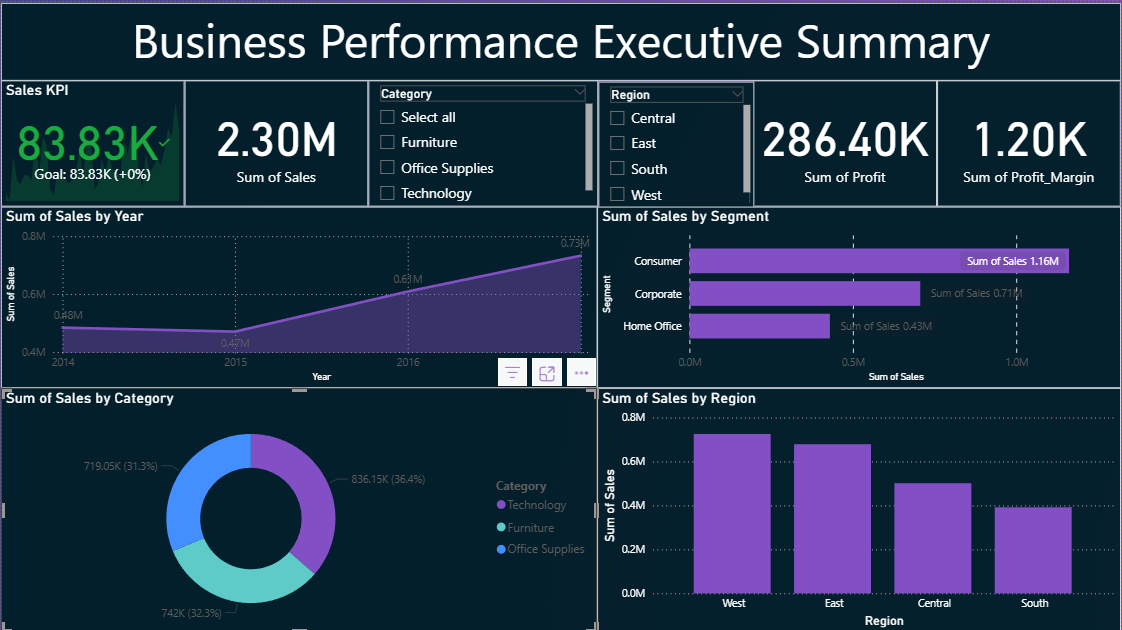

The dashboard page shown, as its layout file describes it:
{"tool":"powerbi","page":{"name":"Page 1","canvas":[1280,720],"ordinal":0},"visuals":[{"type":"lineChart","fields":{"Category":["Superstore_clean.MonthYear.Variation.Date Hierarchy.Year","Superstore_clean.MonthYear.Variation.Date Hierarchy.Quarter","Superstore_clean.MonthYear.Variation.Date Hierarchy.Month","Superstore_clean.MonthYear.Variation.Date Hierarchy.Day"],"Y":["Sum(Superstore_clean.Sales)"]},"box":[0,233.3,682,207.2],"z":0},{"type":"clusteredColumnChart","fields":{"Category":["Superstore_clean.Region"],"Y":["Sum(Superstore_clean.Sales)"]},"box":[682,440.5,598.3,279.9],"z":1000},{"type":"donutChart","fields":{"Category":["Superstore_clean.Category"],"Y":["Sum(Superstore_clean.Sales)"]},"box":[0,440.5,682,279.9],"z":2000},{"type":"kpi","title":"Sales KPI","fields":{"Indicator":["Sum(Superstore_clean.Sales)"],"TrendLine":["Superstore_clean.YearMonth"],"Goal":["Sum(Superstore_clean.Sales)"]},"box":[0,89.2,209.9,144.1],"z":3000},{"type":"slicer","fields":{"Values":["Superstore_clean.Region"]},"box":[682.9,89.6,179.1,144.3],"z":4000},{"type":"slicer","fields":{"Values":["Superstore_clean.Category"]},"box":[419.9,89.2,262.1,144.1],"z":5000},{"type":"card","fields":{"Values":["Sum(Superstore_clean.Sales)"]},"box":[209.9,89.2,209.9,144.1],"z":6000},{"type":"card","fields":{"Values":["Sum(Superstore_clean.Profit)"]},"box":[860.4,89.2,209.9,144.1],"z":7000},{"type":"card","fields":{"Values":["Sum(Superstore_clean.Profit_Margin)"]},"box":[1070.3,89.2,209.9,144.1],"z":8000},{"type":"clusteredBarChart","fields":{"Category":["Superstore_clean.Segment"],"Y":["Sum(Superstore_clean.Sales)"]},"box":[682,233.3,598.3,207.2],"z":9000},{"type":"textbox","box":[0,0,1280.3,89.2],"z":10000}]}

Visuals, with their boxes in screenshot pixels (x1, y1, x2, y2), scaled from the page's 1280x720 canvas onto the 1122x630 screenshot:
lineChart - Superstore_clean.MonthYear.Variation.Date Hierarchy.Year x Superstore_clean.MonthYear.Variation.Date Hierarchy.Quarter: [left=0, top=204, right=598, bottom=385]
clusteredColumnChart - Superstore_clean.Region x Sum(Superstore_clean.Sales): [left=598, top=385, right=1121, bottom=629]
donutChart - Superstore_clean.Category x Sum(Superstore_clean.Sales): [left=0, top=385, right=598, bottom=629]
"Sales KPI" kpi: [left=0, top=78, right=184, bottom=204]
slicer - Superstore_clean.Region: [left=599, top=78, right=756, bottom=205]
slicer - Superstore_clean.Category: [left=368, top=78, right=598, bottom=204]
card - Sum(Superstore_clean.Sales): [left=184, top=78, right=368, bottom=204]
card - Sum(Superstore_clean.Profit): [left=754, top=78, right=938, bottom=204]
card - Sum(Superstore_clean.Profit_Margin): [left=938, top=78, right=1121, bottom=204]
clusteredBarChart - Superstore_clean.Segment x Sum(Superstore_clean.Sales): [left=598, top=204, right=1121, bottom=385]
textbox: [left=0, top=0, right=1121, bottom=78]
